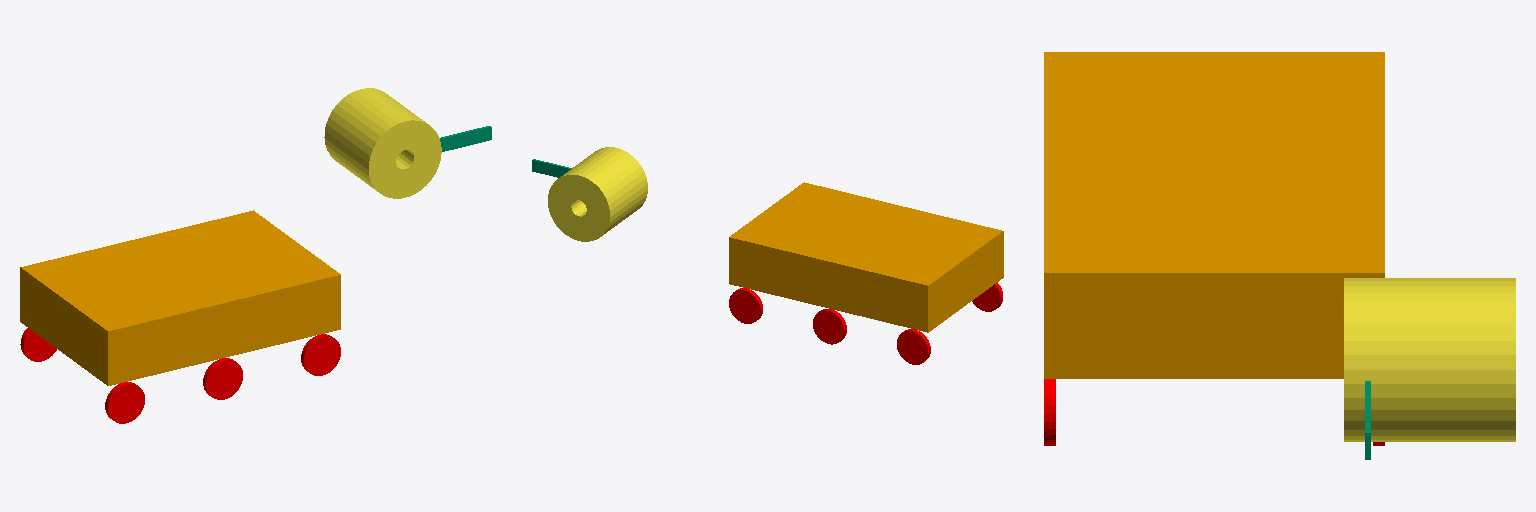
robot.urdf — mobile_ur10:
<?xml version="1.0" ?>
<!-- =================================================================================== -->
<!-- |    This document was autogenerated by xacro from mobile_manipulator.urdf.xacro  | -->
<!-- |    EDITING THIS FILE BY HAND IS NOT RECOMMENDED                                 | -->
<!-- =================================================================================== -->
<robot name="mobile_ur10" xmlns:xacro="http://ros.org/wiki/xacro">
  <!-- Chassis link -->
  <link name="chassis">
    <visual name="visual">
      <geometry>
        <box size="0.89 0.58 0.2"/>
      </geometry>
    </visual>
    <collision name="collision">
      <geometry>
        <box size="0.89 0.58 0.2"/>
      </geometry>
    </collision>
    <inertial>
      <mass value="63.65"/>
      <inertia ixx="1.99648833333" ixy="0.0" ixz="0.0" iyy="4.41359708333" iyz="0.0" izz="5.98575208333"/>
    </inertial>
  </link>
  <link name="wheel_1_link">
    <!-- Note: must omit name="foo" because in Gazebo 7 the urdf parser has a bug that would make <gazebo reference="bar"> not work -->
    <visual>
      <geometry>
        <cylinder length="0.02" radius="0.071"/>
      </geometry>
      <material name="red">
        <color rgba="1 0 0 1"/>
      </material>
    </visual>
    <!-- Note: must omit name="foo" because in Gazebo 7 the urdf parser has a bug that would make <gazebo reference="bar"> not work -->
    <collision>
      <geometry>
        <cylinder length="0.02" radius="0.071"/>
      </geometry>
    </collision>
    <inertial>
      <mass value="0.558333333333"/>
      <inertia ixx="0.000722250694444" ixy="0.0" ixz="0.0" iyy="0.000722250694444" iyz="0.0" izz="0.00140727916667"/>
    </inertial>
  </link>
  <joint name="wheel_1_joint" type="fixed">
    <axis xyz="0 0 1"/>
    <parent link="chassis"/>
    <child link="wheel_1_link"/>
    <origin rpy="-1.57079632679 0 0" xyz="0.374 0.28 -0.181"/>
  </joint>
  <link name="wheel_2_link">
    <!-- Note: must omit name="foo" because in Gazebo 7 the urdf parser has a bug that would make <gazebo reference="bar"> not work -->
    <visual>
      <geometry>
        <cylinder length="0.02" radius="0.071"/>
      </geometry>
      <material name="red">
        <color rgba="1 0 0 1"/>
      </material>
    </visual>
    <!-- Note: must omit name="foo" because in Gazebo 7 the urdf parser has a bug that would make <gazebo reference="bar"> not work -->
    <collision>
      <geometry>
        <cylinder length="0.02" radius="0.071"/>
      </geometry>
    </collision>
    <inertial>
      <mass value="0.558333333333"/>
      <inertia ixx="0.000722250694444" ixy="0.0" ixz="0.0" iyy="0.000722250694444" iyz="0.0" izz="0.00140727916667"/>
    </inertial>
  </link>
  <joint name="wheel_2_joint" type="fixed">
    <axis xyz="0 0 1"/>
    <parent link="chassis"/>
    <child link="wheel_2_link"/>
    <origin rpy="-1.57079632679 0 0" xyz="0 0.28 -0.181"/>
  </joint>
  <link name="wheel_3_link">
    <!-- Note: must omit name="foo" because in Gazebo 7 the urdf parser has a bug that would make <gazebo reference="bar"> not work -->
    <visual>
      <geometry>
        <cylinder length="0.02" radius="0.071"/>
      </geometry>
      <material name="red">
        <color rgba="1 0 0 1"/>
      </material>
    </visual>
    <!-- Note: must omit name="foo" because in Gazebo 7 the urdf parser has a bug that would make <gazebo reference="bar"> not work -->
    <collision>
      <geometry>
        <cylinder length="0.02" radius="0.071"/>
      </geometry>
    </collision>
    <inertial>
      <mass value="0.558333333333"/>
      <inertia ixx="0.000722250694444" ixy="0.0" ixz="0.0" iyy="0.000722250694444" iyz="0.0" izz="0.00140727916667"/>
    </inertial>
  </link>
  <joint name="wheel_3_joint" type="fixed">
    <axis xyz="0 0 1"/>
    <parent link="chassis"/>
    <child link="wheel_3_link"/>
    <origin rpy="-1.57079632679 0 0" xyz="-0.374 0.28 -0.181"/>
  </joint>
  <link name="wheel_4_link">
    <!-- Note: must omit name="foo" because in Gazebo 7 the urdf parser has a bug that would make <gazebo reference="bar"> not work -->
    <visual>
      <geometry>
        <cylinder length="0.02" radius="0.071"/>
      </geometry>
      <material name="red">
        <color rgba="1 0 0 1"/>
      </material>
    </visual>
    <!-- Note: must omit name="foo" because in Gazebo 7 the urdf parser has a bug that would make <gazebo reference="bar"> not work -->
    <collision>
      <geometry>
        <cylinder length="0.02" radius="0.071"/>
      </geometry>
    </collision>
    <inertial>
      <mass value="0.558333333333"/>
      <inertia ixx="0.000722250694444" ixy="0.0" ixz="0.0" iyy="0.000722250694444" iyz="0.0" izz="0.00140727916667"/>
    </inertial>
  </link>
  <joint name="wheel_4_joint" type="fixed">
    <axis xyz="0 0 1"/>
    <parent link="chassis"/>
    <child link="wheel_4_link"/>
    <origin rpy="-1.57079632679 0 0" xyz="-0.374 -0.28 -0.181"/>
  </joint>
  <link name="wheel_5_link">
    <!-- Note: must omit name="foo" because in Gazebo 7 the urdf parser has a bug that would make <gazebo reference="bar"> not work -->
    <visual>
      <geometry>
        <cylinder length="0.02" radius="0.071"/>
      </geometry>
      <material name="red">
        <color rgba="1 0 0 1"/>
      </material>
    </visual>
    <!-- Note: must omit name="foo" because in Gazebo 7 the urdf parser has a bug that would make <gazebo reference="bar"> not work -->
    <collision>
      <geometry>
        <cylinder length="0.02" radius="0.071"/>
      </geometry>
    </collision>
    <inertial>
      <mass value="0.558333333333"/>
      <inertia ixx="0.000722250694444" ixy="0.0" ixz="0.0" iyy="0.000722250694444" iyz="0.0" izz="0.00140727916667"/>
    </inertial>
  </link>
  <joint name="wheel_5_joint" type="fixed">
    <axis xyz="0 0 1"/>
    <parent link="chassis"/>
    <child link="wheel_5_link"/>
    <origin rpy="-1.57079632679 0 0" xyz="0 -0.28 -0.181"/>
  </joint>
  <link name="wheel_6_link">
    <!-- Note: must omit name="foo" because in Gazebo 7 the urdf parser has a bug that would make <gazebo reference="bar"> not work -->
    <visual>
      <geometry>
        <cylinder length="0.02" radius="0.071"/>
      </geometry>
      <material name="red">
        <color rgba="1 0 0 1"/>
      </material>
    </visual>
    <!-- Note: must omit name="foo" because in Gazebo 7 the urdf parser has a bug that would make <gazebo reference="bar"> not work -->
    <collision>
      <geometry>
        <cylinder length="0.02" radius="0.071"/>
      </geometry>
    </collision>
    <inertial>
      <mass value="0.558333333333"/>
      <inertia ixx="0.000722250694444" ixy="0.0" ixz="0.0" iyy="0.000722250694444" iyz="0.0" izz="0.00140727916667"/>
    </inertial>
  </link>
  <joint name="wheel_6_joint" type="fixed">
    <axis xyz="0 0 1"/>
    <parent link="chassis"/>
    <child link="wheel_6_link"/>
    <origin rpy="-1.57079632679 0 0" xyz="0.374 -0.28 -0.181"/>
  </joint>
  <link name="world"/>
  <joint name="prismatic_chassis_to_world" type="prismatic">
    <origin rpy="0 0 0" xyz="0 0 0.252"/>
    <parent link="world"/>
    <child link="chassis"/>
    <limit effort="1000.0" lower="-100" upper="100" velocity="2"/>
  </joint>
  <transmission name="prismatic_chassis_to_world_trans">
    <type>transmission_interface/SimpleTransmission</type>
    <joint name="prismatic_chassis_to_world">
      <hardwareInterface>hardware_interface/EffortJointInterface</hardwareInterface>
    </joint>
    <actuator name="prismatic_chassis_to_world_motor">
      <hardwareInterface>hardware_interface/EffortJointInterface</hardwareInterface>
      <mechanicalReduction>1</mechanicalReduction>
    </actuator>
  </transmission>
  <!--
  Author: [author]
  Contributers: [author], [author], [author]
-->
  <!-- measured from model -->
  <link name="base_link">
    <visual>
      <geometry>
        <mesh filename="package://ur_description/meshes/ur10/visual/base.dae"/>
      </geometry>
      <material name="LightGrey">
        <color rgba="0.7 0.7 0.7 1.0"/>
      </material>
    </visual>
    <collision>
      <geometry>
        <mesh filename="package://ur_description/meshes/ur10/collision/base.stl"/>
      </geometry>
    </collision>
    <inertial>
      <mass value="4.0"/>
      <origin rpy="0 0 0" xyz="0.0 0.0 0.0"/>
      <inertia ixx="0.0061063308908" ixy="0.0" ixz="0.0" iyy="0.0061063308908" iyz="0.0" izz="0.01125"/>
    </inertial>
  </link>
  <joint name="shoulder_pan_joint" type="revolute">
    <parent link="base_link"/>
    <child link="shoulder_link"/>
    <origin rpy="0.0 0.0 0.0" xyz="0.0 0.0 0.1273"/>
    <axis xyz="0 0 1"/>
    <limit effort="330.0" lower="-3.14159265359" upper="3.14159265359" velocity="2.16"/>
    <dynamics damping="0.0" friction="0.0"/>
  </joint>
  <link name="shoulder_link">
    <visual>
      <geometry>
        <mesh filename="package://ur_description/meshes/ur10/visual/shoulder.dae"/>
      </geometry>
      <material name="LightGrey">
        <color rgba="0.7 0.7 0.7 1.0"/>
      </material>
    </visual>
    <collision>
      <geometry>
        <mesh filename="package://ur_description/meshes/ur10/collision/shoulder.stl"/>
      </geometry>
    </collision>
    <inertial>
      <mass value="7.778"/>
      <origin rpy="0 0 0" xyz="0.0 0.0 0.0"/>
      <inertia ixx="0.0314743125769" ixy="0.0" ixz="0.0" iyy="0.0314743125769" iyz="0.0" izz="0.021875625"/>
    </inertial>
  </link>
  <joint name="shoulder_lift_joint" type="revolute">
    <parent link="shoulder_link"/>
    <child link="upper_arm_link"/>
    <origin rpy="0.0 1.57079632679 0.0" xyz="0.0 0.220941 0.0"/>
    <axis xyz="0 1 0"/>
    <limit effort="330.0" lower="-3.14159265359" upper="3.14159265359" velocity="2.16"/>
    <dynamics damping="0.0" friction="0.0"/>
  </joint>
  <link name="upper_arm_link">
    <visual>
      <geometry>
        <mesh filename="package://ur_description/meshes/ur10/visual/upperarm.dae"/>
      </geometry>
      <material name="LightGrey">
        <color rgba="0.7 0.7 0.7 1.0"/>
      </material>
    </visual>
    <collision>
      <geometry>
        <mesh filename="package://ur_description/meshes/ur10/collision/upperarm.stl"/>
      </geometry>
    </collision>
    <inertial>
      <mass value="12.93"/>
      <origin rpy="0 0 0" xyz="0.0 0.0 0.306"/>
      <inertia ixx="0.421753803798" ixy="0.0" ixz="0.0" iyy="0.421753803798" iyz="0.0" izz="0.036365625"/>
    </inertial>
  </link>
  <joint name="elbow_joint" type="revolute">
    <parent link="upper_arm_link"/>
    <child link="forearm_link"/>
    <origin rpy="0.0 0.0 0.0" xyz="0.0 -0.1719 0.612"/>
    <axis xyz="0 1 0"/>
    <limit effort="150.0" lower="-3.14159265359" upper="3.14159265359" velocity="3.15"/>
    <dynamics damping="0.0" friction="0.0"/>
  </joint>
  <link name="forearm_link">
    <visual>
      <geometry>
        <mesh filename="package://ur_description/meshes/ur10/visual/forearm.dae"/>
      </geometry>
      <material name="LightGrey">
        <color rgba="0.7 0.7 0.7 1.0"/>
      </material>
    </visual>
    <collision>
      <geometry>
        <mesh filename="package://ur_description/meshes/ur10/collision/forearm.stl"/>
      </geometry>
    </collision>
    <inertial>
      <mass value="3.87"/>
      <origin rpy="0 0 0" xyz="0.0 0.0 0.28615"/>
      <inertia ixx="0.111069694097" ixy="0.0" ixz="0.0" iyy="0.111069694097" iyz="0.0" izz="0.010884375"/>
    </inertial>
  </link>
  <joint name="wrist_1_joint" type="revolute">
    <parent link="forearm_link"/>
    <child link="wrist_1_link"/>
    <origin rpy="0.0 1.57079632679 0.0" xyz="0.0 0.0 0.5723"/>
    <axis xyz="0 1 0"/>
    <limit effort="54.0" lower="-3.14159265359" upper="3.14159265359" velocity="3.2"/>
    <dynamics damping="0.0" friction="0.0"/>
  </joint>
  <link name="wrist_1_link">
    <visual>
      <geometry>
        <mesh filename="package://ur_description/meshes/ur10/visual/wrist1.dae"/>
      </geometry>
      <material name="LightGrey">
        <color rgba="0.7 0.7 0.7 1.0"/>
      </material>
    </visual>
    <collision>
      <geometry>
        <mesh filename="package://ur_description/meshes/ur10/collision/wrist1.stl"/>
      </geometry>
    </collision>
    <inertial>
      <mass value="1.96"/>
      <origin rpy="0 0 0" xyz="0.0 0.0 0.0"/>
      <inertia ixx="0.0051082479567" ixy="0.0" ixz="0.0" iyy="0.0051082479567" iyz="0.0" izz="0.0055125"/>
    </inertial>
  </link>
  <joint name="wrist_2_joint" type="revolute">
    <parent link="wrist_1_link"/>
    <child link="wrist_2_link"/>
    <origin rpy="0.0 0.0 0.0" xyz="0.0 0.1149 0.0"/>
    <axis xyz="0 0 1"/>
    <limit effort="54.0" lower="-3.14159265359" upper="3.14159265359" velocity="3.2"/>
    <dynamics damping="0.0" friction="0.0"/>
  </joint>
  <link name="wrist_2_link">
    <visual>
      <geometry>
        <mesh filename="package://ur_description/meshes/ur10/visual/wrist2.dae"/>
      </geometry>
      <material name="LightGrey">
        <color rgba="0.7 0.7 0.7 1.0"/>
      </material>
    </visual>
    <collision>
      <geometry>
        <mesh filename="package://ur_description/meshes/ur10/collision/wrist2.stl"/>
      </geometry>
    </collision>
    <inertial>
      <mass value="1.96"/>
      <origin rpy="0 0 0" xyz="0.0 0.0 0.0"/>
      <inertia ixx="0.0051082479567" ixy="0.0" ixz="0.0" iyy="0.0051082479567" iyz="0.0" izz="0.0055125"/>
    </inertial>
  </link>
  <joint name="wrist_3_joint" type="revolute">
    <parent link="wrist_2_link"/>
    <child link="wrist_3_link"/>
    <origin rpy="0.0 0.0 0.0" xyz="0.0 0.0 0.1157"/>
    <axis xyz="0 1 0"/>
    <limit effort="54.0" lower="-3.14159265359" upper="3.14159265359" velocity="3.2"/>
    <dynamics damping="0.0" friction="0.0"/>
  </joint>
  <link name="wrist_3_link">
    <visual>
      <geometry>
        <mesh filename="package://ur_description/meshes/ur10/visual/wrist3.dae"/>
      </geometry>
      <material name="LightGrey">
        <color rgba="0.7 0.7 0.7 1.0"/>
      </material>
    </visual>
    <collision>
      <geometry>
        <mesh filename="package://ur_description/meshes/ur10/collision/wrist3.stl"/>
      </geometry>
    </collision>
    <inertial>
      <mass value="0.202"/>
      <origin rpy="0 0 0" xyz="0.0 0.0 0.0"/>
      <inertia ixx="0.000526462289415" ixy="0.0" ixz="0.0" iyy="0.000526462289415" iyz="0.0" izz="0.000568125"/>
    </inertial>
  </link>
  <joint name="ee_fixed_joint" type="fixed">
    <parent link="wrist_3_link"/>
    <child link="ee_link"/>
    <origin rpy="0.0 0.0 1.57079632679" xyz="0.0 0.0922 0.0"/>
  </joint>
  <link name="ee_link">
    <collision>
      <geometry>
        <box size="0.01 0.01 0.01"/>
      </geometry>
      <origin rpy="0 0 0" xyz="-0.01 0 0"/>
    </collision>
  </link>
  <transmission name="shoulder_pan_trans">
    <type>transmission_interface/SimpleTransmission</type>
    <joint name="shoulder_pan_joint">
      <hardwareInterface>hardware_interface/PositionJointInterface</hardwareInterface>
    </joint>
    <actuator name="shoulder_pan_motor">
      <mechanicalReduction>1</mechanicalReduction>
    </actuator>
  </transmission>
  <transmission name="shoulder_lift_trans">
    <type>transmission_interface/SimpleTransmission</type>
    <joint name="shoulder_lift_joint">
      <hardwareInterface>hardware_interface/PositionJointInterface</hardwareInterface>
    </joint>
    <actuator name="shoulder_lift_motor">
      <mechanicalReduction>1</mechanicalReduction>
    </actuator>
  </transmission>
  <transmission name="elbow_trans">
    <type>transmission_interface/SimpleTransmission</type>
    <joint name="elbow_joint">
      <hardwareInterface>hardware_interface/PositionJointInterface</hardwareInterface>
    </joint>
    <actuator name="elbow_motor">
      <mechanicalReduction>1</mechanicalReduction>
    </actuator>
  </transmission>
  <transmission name="wrist_1_trans">
    <type>transmission_interface/SimpleTransmission</type>
    <joint name="wrist_1_joint">
      <hardwareInterface>hardware_interface/PositionJointInterface</hardwareInterface>
    </joint>
    <actuator name="wrist_1_motor">
      <mechanicalReduction>1</mechanicalReduction>
    </actuator>
  </transmission>
  <transmission name="wrist_2_trans">
    <type>transmission_interface/SimpleTransmission</type>
    <joint name="wrist_2_joint">
      <hardwareInterface>hardware_interface/PositionJointInterface</hardwareInterface>
    </joint>
    <actuator name="wrist_2_motor">
      <mechanicalReduction>1</mechanicalReduction>
    </actuator>
  </transmission>
  <transmission name="wrist_3_trans">
    <type>transmission_interface/SimpleTransmission</type>
    <joint name="wrist_3_joint">
      <hardwareInterface>hardware_interface/PositionJointInterface</hardwareInterface>
    </joint>
    <actuator name="wrist_3_motor">
      <mechanicalReduction>1</mechanicalReduction>
    </actuator>
  </transmission>
  <!-- nothing to do here at the moment -->
  <!-- ROS base_link to UR 'Base' Coordinates transform -->
  <link name="base"/>
  <joint name="base_link-base_fixed_joint" type="fixed">
    <!-- NOTE: this rotation is only needed as long as base_link itself is
                 not corrected wrt the real robot (ie: rotated over 180
                 degrees)
      -->
    <origin rpy="0 0 -3.14159265359" xyz="0 0 0"/>
    <parent link="base_link"/>
    <child link="base"/>
  </joint>
  <!-- Frame coincident with all-zeros TCP on UR controller -->
  <link name="tool0"/>
  <joint name="wrist_3_link-tool0_fixed_joint" type="fixed">
    <origin rpy="-1.57079632679 0 0" xyz="0 0.0922 0"/>
    <parent link="wrist_3_link"/>
    <child link="tool0"/>
  </joint>
  <!-- Mount link -->
  <link name="mount_link">
    <visual name="visual">
      <geometry>
        <box size="0.3 0.05 0.01"/>
      </geometry>
    </visual>
    <collision name="collision">
      <geometry>
        <box size="0.3 0.05 0.01"/>
      </geometry>
    </collision>
    <inertial>
      <mass value="0.15"/>
      <inertia ixx="3.25e-05" ixy="0.0" ixz="0.0" iyy="0.00112625" iyz="0.0" izz="0.00115625"/>
    </inertial>
  </link>
  <link name="cone_link">
    <visual>
      <origin rpy="0 0 0" xyz="0 0 0"/>
      <geometry>
        <mesh filename="package://mobile_manipulator/models/fixed_cone/meshes/Cone100.STL"/>
      </geometry>
    </visual>
    <collision>
      <origin rpy="0 0 0" xyz="0 0 0"/>
      <geometry>
        <mesh filename="package://mobile_manipulator/models/fixed_cone/meshes/Cone100.STL"/>
      </geometry>
    </collision>
    <inertial>
      <mass value="1"/>
      <inertia ixx="0.01" ixy="0.005" ixz="0.0003" iyy="0.02" iyz="0.00004" izz="0.02"/>
    </inertial>
  </link>
  <gazebo reference="camera_depth_frame">
    <sensor name="camera1" type="depth">
      <always_on>true</always_on>
      <update_rate>20.0</update_rate>
      <camera>
        <horizontal_fov>1.0471975512</horizontal_fov>
        <image>
          <format>R8G8B8</format>
          <width>640</width>
          <height>480</height>
        </image>
        <clip>
          <near>0.05</near>
          <far>8.0</far>
        </clip>
      </camera>
      <plugin filename="libgazebo_ros_openni_kinect.so" name="camera_depth_frame_kinect_controller">
        <baseline>0.1</baseline>
        <alwaysOn>true</alwaysOn>
        <updateRate>10</updateRate>
        <cameraName>camera1</cameraName>
        <imageTopicName>depth/image_raw</imageTopicName>
        <cameraInfoTopicName>depth/camera_info</cameraInfoTopicName>
        <depthImageTopicName>depth/image_raw_depth</depthImageTopicName>
        <depthImageCameraInfoTopicName>depth/camera_info</depthImageCameraInfoTopicName>
        <pointCloudTopicName>depth/points</pointCloudTopicName>
        <frameName>camera_depth_optical_frame</frameName>
        <pointCloudCutoff>0.3</pointCloudCutoff>
        <distortion_k1>0.0</distortion_k1>
        <distortion_k2>0.0</distortion_k2>
        <distortion_k3>0.0</distortion_k3>
        <distortion_t1>0.0</distortion_t1>
        <distortion_t2>0.0</distortion_t2>
        <!--
          <CxPrime>0</CxPrime>
          <Cx>0</Cx>
          <Cy>0</Cy>
          <focalLength>0</focalLength>
          <hackBaseline>0</hackBaseline>
      -->
      </plugin>
    </sensor>
  </gazebo>
  <!-- joints for attaching models to each other -->
  <!-- joint to attach UR10 to mobile base -->
  <joint name="arm_to_mobile_base" type="fixed">
    <origin rpy="0 0 0" xyz="0 0 0.176"/>
    <parent link="chassis"/>
    <child link="base_link"/>
  </joint>
  <!-- joint to attach mount for tool to UR10 -->
  <joint name="mount_to_ur10" type="fixed">
    <origin rpy="0 0 0" xyz="0 0 .005"/>
    <parent link="tool0"/>
    <child link="mount_link"/>
  </joint>
  <joint name="gripper_to_mount" type="fixed">
    <origin rpy="4.71238898038 0 0" xyz="0.2 0 0.252"/>
    <parent link="mount_link"/>
    <child link="cone_link"/>
  </joint>
  <joint name="camera_rgb_joint" type="fixed">
    <origin rpy="0 -1.5708 0" xyz="-0.12 0 0.08"/>
    <parent link="mount_link"/>
    <child link="camera_rgb_frame"/>
  </joint>
  <link name="camera_rgb_frame">
    <inertial>
      <mass value="0.001"/>
      <origin xyz="0 0 0"/>
      <inertia ixx="0.0001" ixy="0.0" ixz="0.0" iyy="0.0001" iyz="0.0" izz="0.0001"/>
    </inertial>
  </link>
  <joint name="camera_rgb_optical_joint" type="fixed">
    <origin rpy="-1.57079632679 0 -1.57079632679" xyz="0 0 0"/>
    <parent link="camera_rgb_frame"/>
    <child link="camera_rgb_optical_frame"/>
  </joint>
  <link name="camera_rgb_optical_frame">
    <inertial>
      <mass value="0.001"/>
      <origin xyz="0 0 0"/>
      <inertia ixx="0.0001" ixy="0.0" ixz="0.0" iyy="0.0001" iyz="0.0" izz="0.0001"/>
    </inertial>
  </link>
  <joint name="camera_joint" type="fixed">
    <origin rpy="0 0 0" xyz="-0.031 0 -0.016"/>
    <parent link="camera_rgb_frame"/>
    <child link="camera_link"/>
  </joint>
  <link name="camera_link">
    <visual>
      <origin rpy="0 0 1.57079632679" xyz="0 0 0"/>
      <geometry>
        <mesh filename="package://mobile_manipulator/models/depth_camera_kinect/meshes/kinect.dae"/>
      </geometry>
    </visual>
    <collision>
      <origin rpy="0 0 0" xyz="0.0 0.0 0.0"/>
      <geometry>
        <box size="0.07271 0.27794 0.073"/>
      </geometry>
    </collision>
    <inertial>
      <mass value="0.001"/>
      <origin xyz="0 0 0"/>
      <inertia ixx="0.0001" ixy="0.0" ixz="0.0" iyy="0.0001" iyz="0.0" izz="0.0001"/>
    </inertial>
  </link>
  <!-- The fixed joints & links below are usually published by static_transformers launched by the OpenNi launch 
		 files. However, for Gazebo simulation we need them, so we add them here.
		 (Hence, don't publish them additionally!) -->
  <joint name="camera_depth_joint" type="fixed">
    <origin rpy="0 0 0" xyz="0 0 0"/>
    <parent link="camera_rgb_frame"/>
    <child link="camera_depth_frame"/>
  </joint>
  <link name="camera_depth_frame">
    <inertial>
      <mass value="0.001"/>
      <origin xyz="0 0 0"/>
      <inertia ixx="0.0001" ixy="0.0" ixz="0.0" iyy="0.0001" iyz="0.0" izz="0.0001"/>
    </inertial>
  </link>
  <joint name="camera_depth_optical_joint" type="fixed">
    <origin rpy="-1.57079632679 0 -1.57079632679" xyz="0 0 0"/>
    <parent link="camera_depth_frame"/>
    <child link="camera_depth_optical_frame"/>
  </joint>
  <link name="camera_depth_optical_frame">
    <inertial>
      <mass value="0.001"/>
      <origin xyz="0 0 0"/>
      <inertia ixx="0.0001" ixy="0.0" ixz="0.0" iyy="0.0001" iyz="0.0" izz="0.0001"/>
    </inertial>
  </link>
  <gazebo>
    <plugin filename="libgazebo_ros_control.so" name="ros_control"/>
  </gazebo>
</robot>

--- Facts derived from the render (not from the file) ---
3 views of the same robot in one strip: view 1: azimuth 30°, elevation 25°; view 2: azimuth 150°, elevation 25°; view 3: azimuth 270°, elevation 25° (orthographic).
Model mobile_ur10 with 25 links and 24 joints (6 revolute, 1 prismatic, 17 fixed), rooted at world, posed every joint at zero.
Links seen in each view (by area): view 1: chassis, cone_link, wheel_5_link, wheel_4_link, wheel_6_link, mount_link, wheel_3_link; view 2: chassis, cone_link, wheel_1_link, wheel_3_link, wheel_2_link, wheel_4_link; view 3: chassis, cone_link, wheel_6_link.
Link boxes in pixels (x1,y1,x2,y2): chassis: (20,210,340,385); cone_link: (324,88,441,198); wheel_5_link: (203,358,242,399); wheel_4_link: (105,382,144,423); wheel_6_link: (301,334,340,375); mount_link: (440,126,491,151); wheel_3_link: (20,328,56,361); chassis: (729,182,1003,332); cone_link: (548,147,647,241); wheel_1_link: (729,288,762,323); wheel_3_link: (897,329,930,364); wheel_2_link: (813,309,846,344); wheel_4_link: (972,282,1002,311); chassis: (1044,52,1384,378); cone_link: (1344,278,1515,441); wheel_6_link: (1044,379,1055,445).
Bounding box of the posed robot: 1.78 × 0.8031 × 0.5793 m (x, y, z).
Meshes: 9 distinct files referenced, 1 mesh visuals loaded (1 binary STL); not drawn: 8 (reference not matched to a file when rendering).
